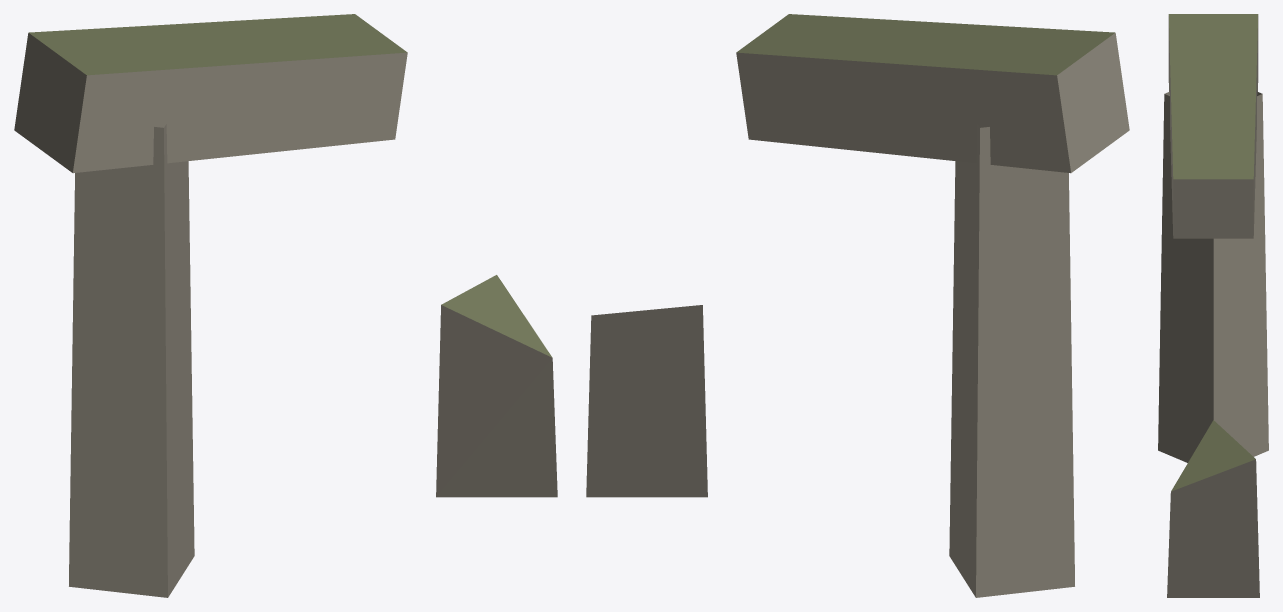
Rendered from arch_fragment.obj.
3 views of the same model, side by side, from view 1: azimuth 30°, elevation 25°; view 2: azimuth 150°, elevation 25°; view 3: azimuth 270°, elevation 25° (orthographic). The views are drawn at different scales.
Visible parts, largest first — view 1: arch_fragment; view 2: arch_fragment; view 3: arch_fragment.
Part boxes in pixels (box(x1,y1,x2,y2)): arch_fragment: box(14, 14, 557, 597); arch_fragment: box(586, 14, 1129, 597); arch_fragment: box(1158, 14, 1268, 597).
Bounding box in the file's own units: 4.77 × 5.04 × 1.24.
